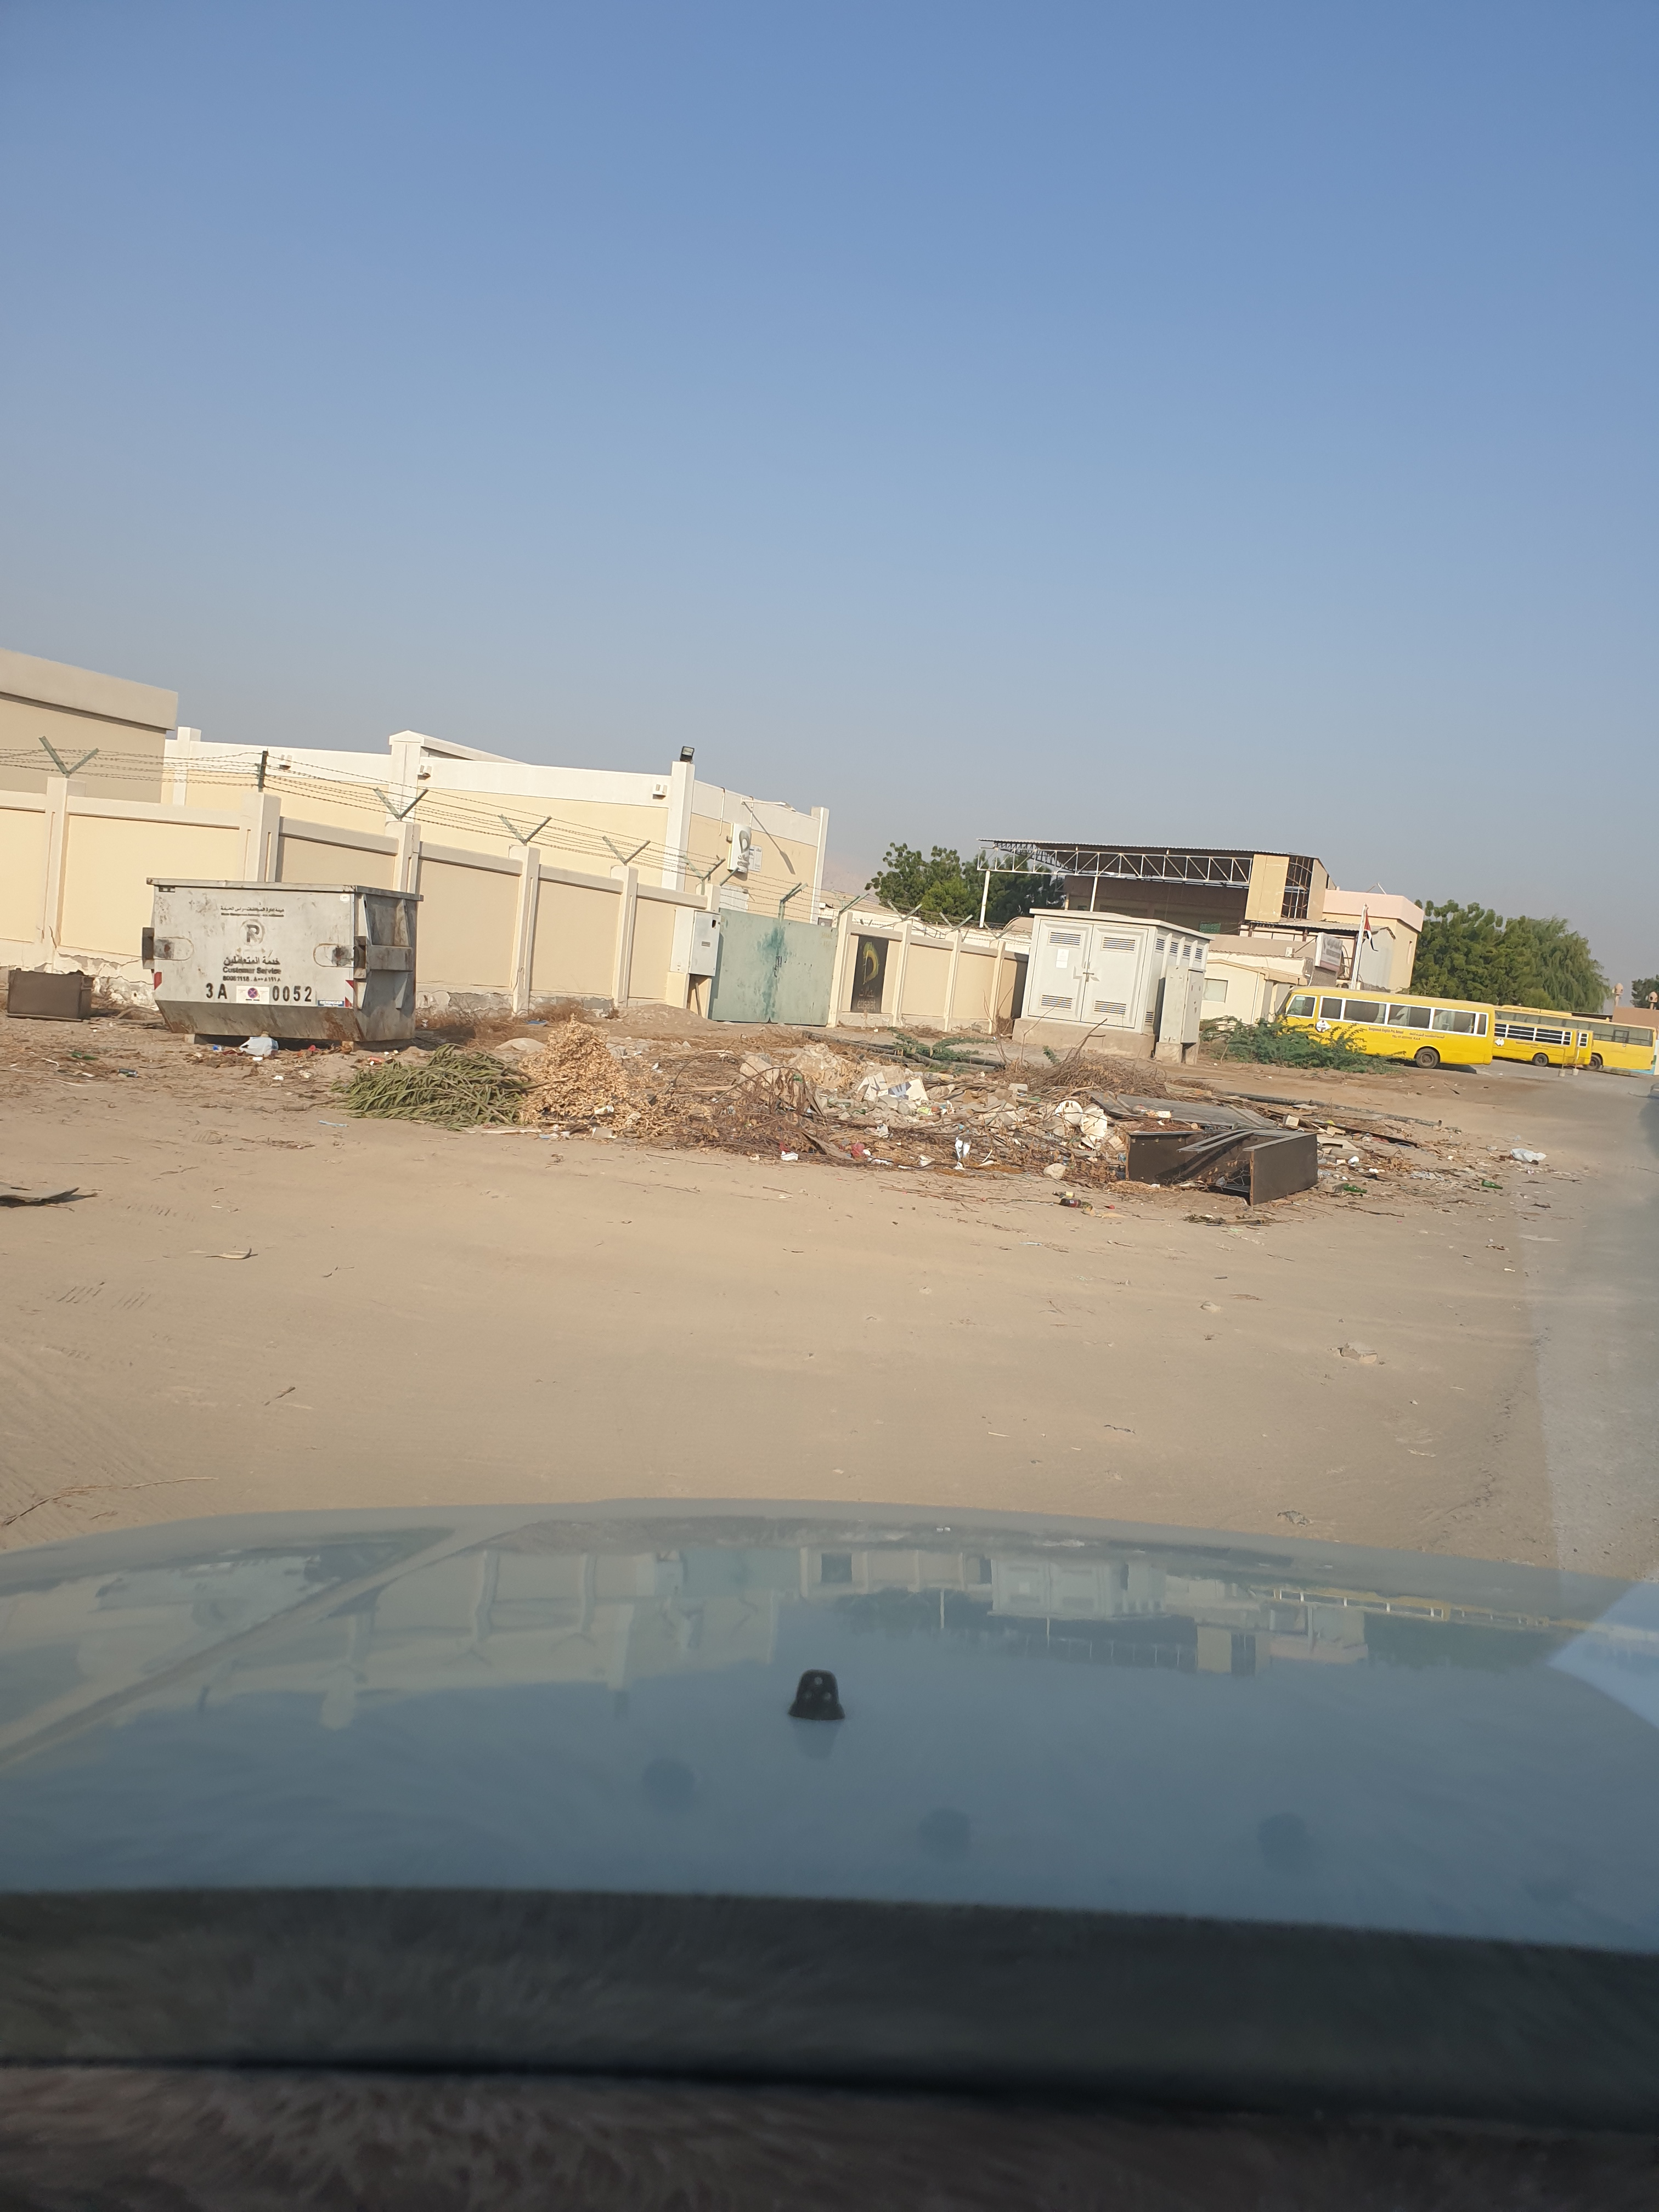fallen_trees: (706, 1038, 927, 1193), (653, 1015, 831, 1191), (849, 1024, 995, 1198), (518, 1003, 687, 1151), (960, 1059, 1103, 1207), (347, 1040, 554, 1132)
uncollected_waste: (1087, 1090, 1319, 1221)
